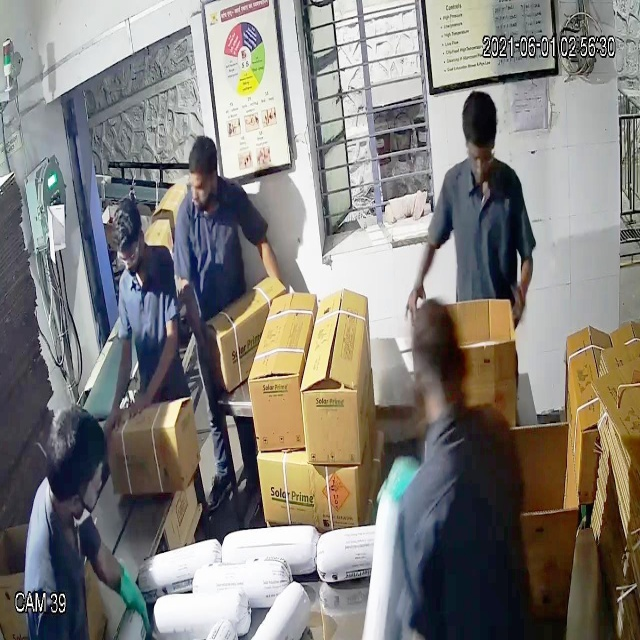Gafas: (108, 233, 148, 276)
